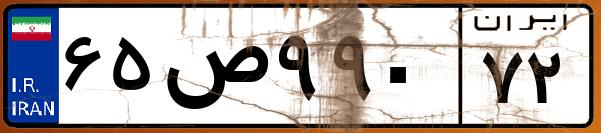0: (385, 28, 445, 110)
2: (525, 38, 570, 115)
5: (110, 28, 158, 98)
6: (57, 26, 110, 100)
7: (475, 38, 525, 113)
9: (270, 28, 330, 110), (330, 28, 385, 110)
ص: (158, 20, 270, 120)
